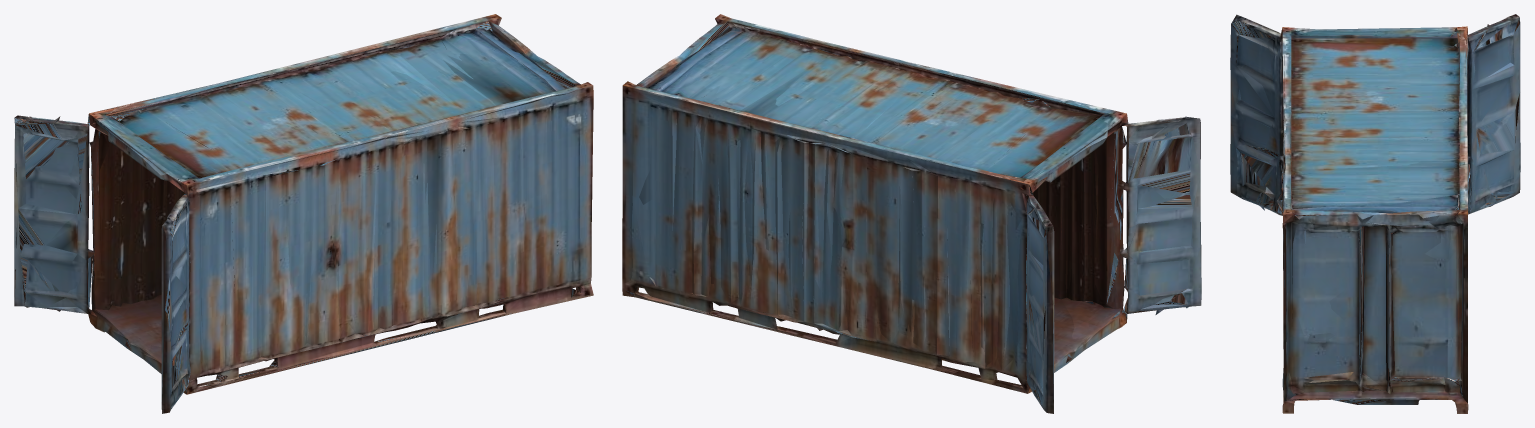
The model's file is cargo_container_old_rusty.glb.
The picture shows the model from 3 angles, left to right: view 1: azimuth 30°, elevation 25°; view 2: azimuth 150°, elevation 25°; view 3: azimuth 270°, elevation 25°; orthographic projection. The views are drawn at different scales.
Visible parts, largest first — view 1: mesh_lod, turn; view 2: mesh_lod, turn; view 3: mesh_lod, turn.
Part boxes in pixels (x1,y1,x2,y2): mesh_lod: (14,14,593,413); turn: (14,14,593,413); mesh_lod: (622,16,1200,413); turn: (622,14,1201,413); mesh_lod: (1230,14,1520,413); turn: (1230,14,1520,413).
Size of the model in its own units: 5.92 by 2.6 by 3.43.
1 material, 1 textured.
